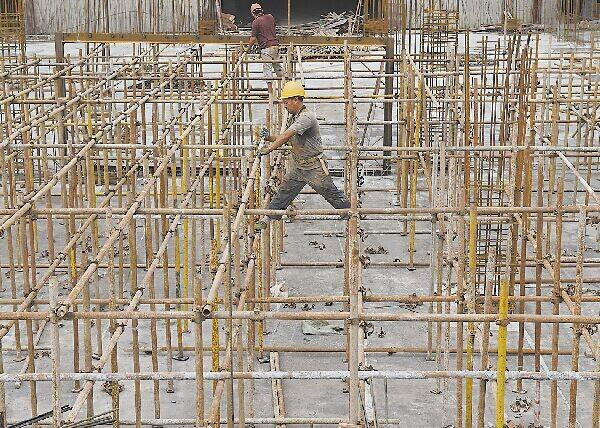helmet: (282, 80, 307, 100), (250, 3, 262, 15)
